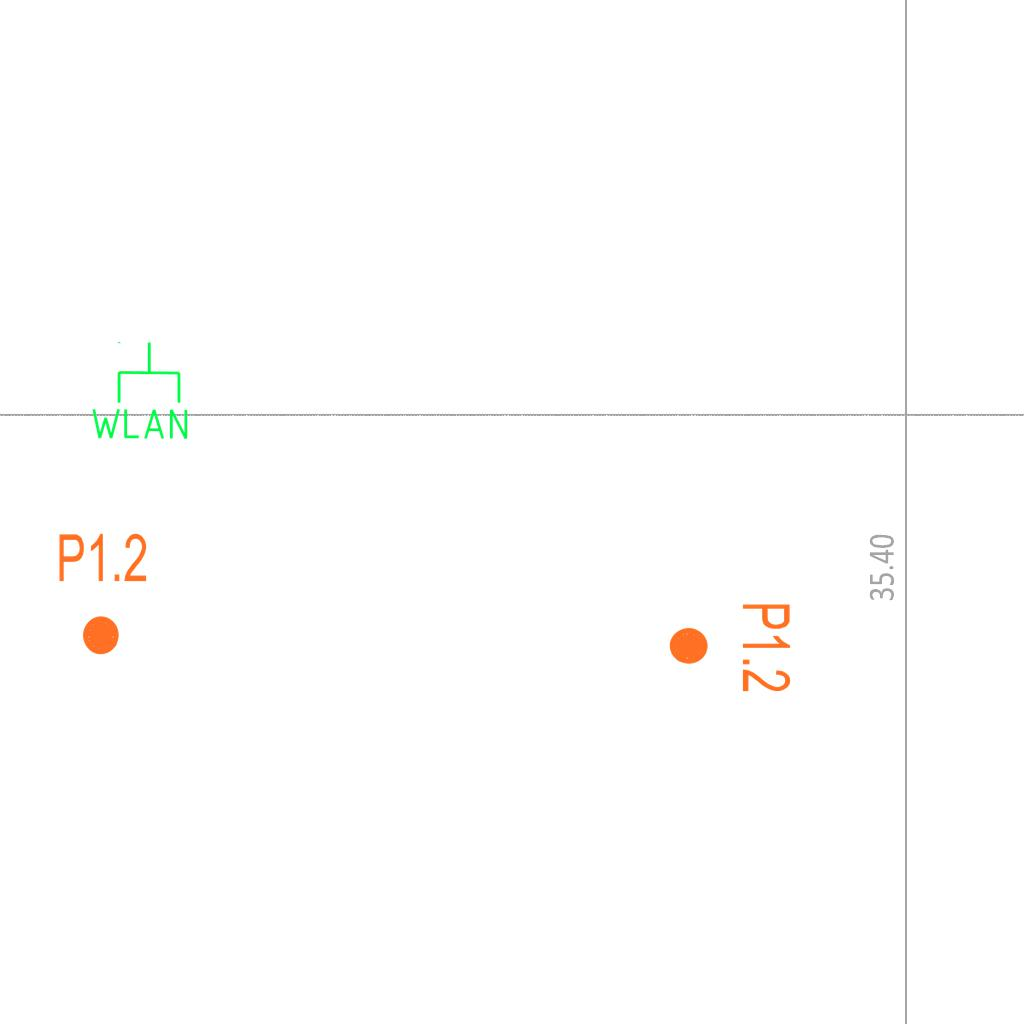Downlight_LED_Einbauleuchten_Flur: (56, 530, 149, 658), (666, 601, 794, 694)
WLAN: (87, 339, 192, 443)
